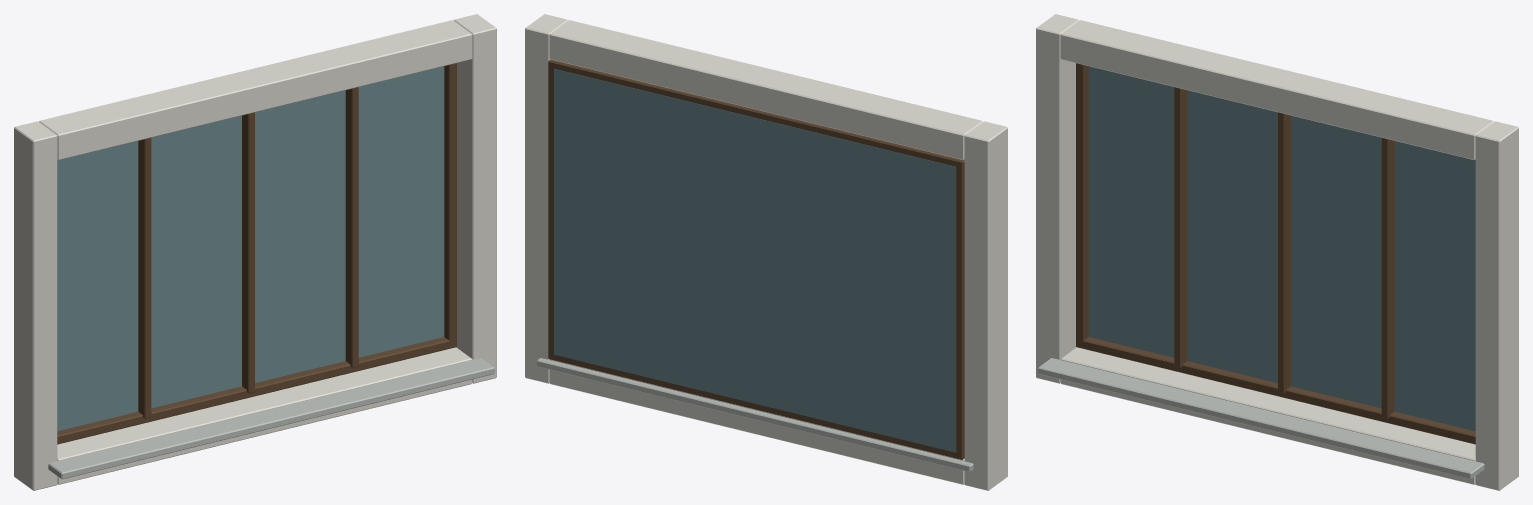
File: strahov-four-pane-window.glb
The picture shows the model from 3 angles, left to right: view 1: azimuth 30°, elevation 25°; view 2: azimuth 150°, elevation 25°; view 3: azimuth 330°, elevation 25°; orthographic projection.
Visible parts, largest first — view 1: Glass, Head and base reveal.001, Side reveal, Side reveal.001, Head and base reveal, Projecting aluminum sill, Frame horizontal, Mullion, Mullion.002, Frame vertical.001, Mullion.001; view 2: Glass, Head and base reveal.001, Side reveal, Side reveal.001, Head and base reveal, Projecting aluminum sill, Frame horizontal.001, Frame horizontal, Frame vertical, Frame vertical.001; view 3: Glass, Head and base reveal.001, Side reveal.001, Side reveal, Head and base reveal, Projecting aluminum sill, Frame horizontal, Mullion.002, Mullion, Frame vertical, Mullion.001.
Part boxes in pixels (box(x1,y1,x2,y2)): Glass: box(57, 66, 444, 431); Head and base reveal.001: box(39, 20, 472, 160); Side reveal: box(14, 121, 57, 490); Side reveal.001: box(453, 14, 496, 383); Head and base reveal: box(57, 347, 472, 484); Projecting aluminum sill: box(48, 358, 494, 479); Frame horizontal: box(57, 337, 456, 444); Mullion: box(138, 138, 151, 418); Mullion.002: box(345, 87, 358, 368); Frame vertical.001: box(444, 63, 456, 347); Mullion.001: box(242, 112, 254, 393); Glass: box(554, 69, 956, 452); Head and base reveal.001: box(549, 20, 982, 160); Side reveal: box(964, 121, 1007, 490); Side reveal.001: box(525, 14, 568, 383); Head and base reveal: box(549, 359, 964, 484); Projecting aluminum sill: box(537, 358, 973, 472); Frame horizontal.001: box(548, 61, 964, 169); Frame horizontal: box(548, 351, 964, 459); Frame vertical: box(955, 159, 964, 459); Frame vertical.001: box(548, 59, 556, 360); Glass: box(1088, 66, 1475, 431); Head and base reveal.001: box(1060, 20, 1493, 160); Side reveal.001: box(1475, 121, 1518, 490); Side reveal: box(1036, 14, 1079, 383); Head and base reveal: box(1060, 347, 1475, 484); Projecting aluminum sill: box(1038, 358, 1484, 479); Frame horizontal: box(1076, 337, 1475, 444); Mullion.002: box(1381, 138, 1394, 418); Mullion: box(1174, 87, 1187, 368); Frame vertical: box(1076, 63, 1088, 347); Mullion.001: box(1278, 112, 1290, 393).
Bounding box in the file's own units: 2.44 × 1.76 × 0.33.
